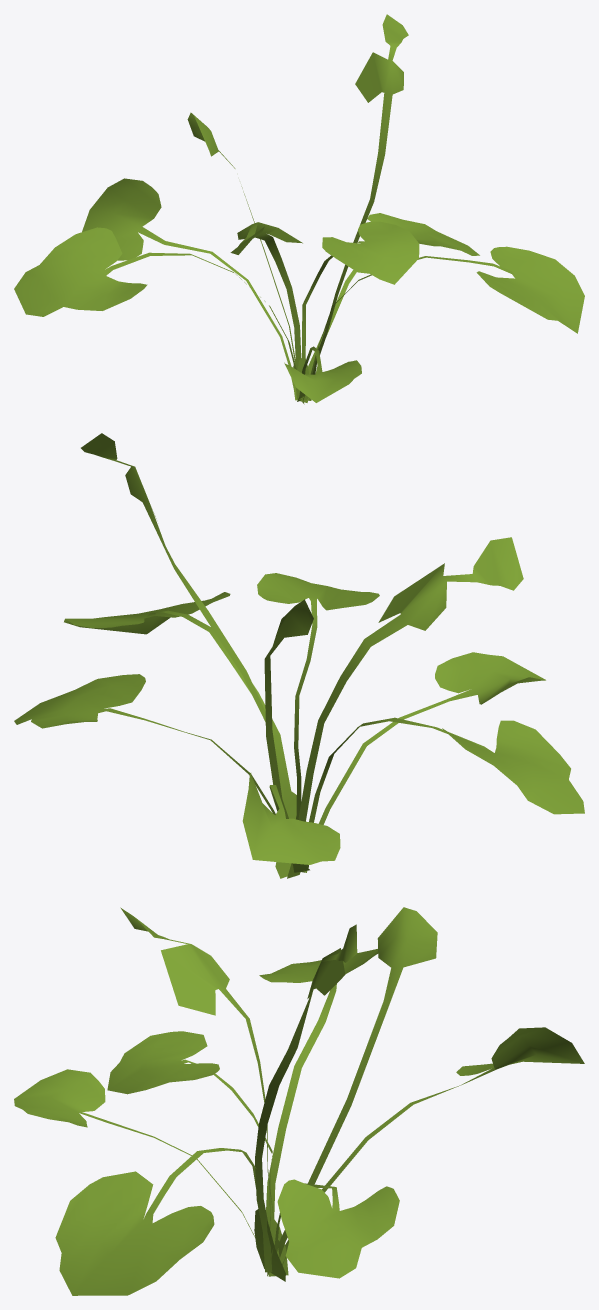
The model's file is groundcover_10.fbx.
The picture shows the model from 3 angles, top to bottom: view 1: azimuth 30°, elevation 25°; view 2: azimuth 150°, elevation 25°; view 3: azimuth 270°, elevation 25°; orthographic projection. The views are drawn at different scales.
Visible parts, largest first — view 1: groundcover_10_LOD0; view 2: groundcover_10_LOD0; view 3: groundcover_10_LOD0.
Boxes of the visible parts, x1,y1,x2,y2 form: groundcover_10_LOD0: (14, 14, 584, 404); groundcover_10_LOD0: (14, 433, 584, 878); groundcover_10_LOD0: (14, 907, 584, 1295).
Size of the model in its own units: 0.273 by 0.185 by 0.2254.
